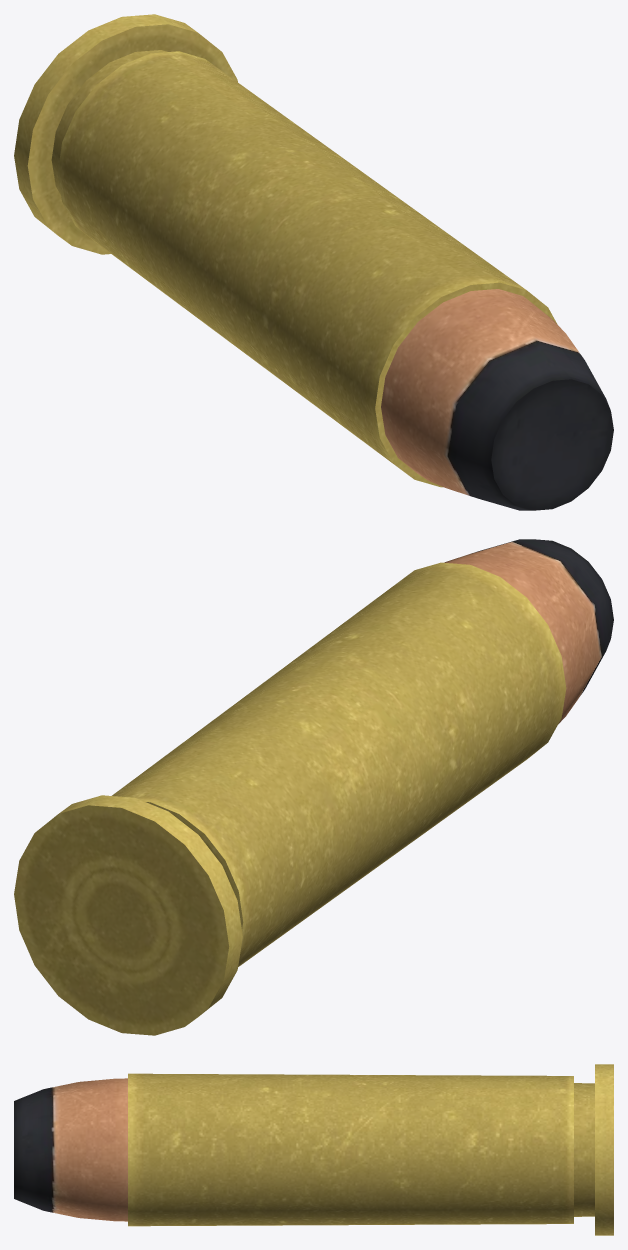
Rendered from round_50.09af6fa334.glb.
3 views of the same model, one above another, from view 1: azimuth 30°, elevation 25°; view 2: azimuth 150°, elevation 25°; view 3: azimuth 270°, elevation 25° (orthographic). The views are drawn at different scales.
Visible parts, largest first — view 1: round_50_0, round_50_1; view 2: round_50_0, round_50_1; view 3: round_50_0, round_50_1.
Part boxes in pixels (left/top/right/bottom): round_50_0: left=14, top=14, right=557, bottom=487; round_50_1: left=381, top=289, right=613, bottom=510; round_50_0: left=14, top=562, right=566, bottom=1035; round_50_1: left=444, top=539, right=613, bottom=724; round_50_0: left=128, top=1064, right=613, bottom=1235; round_50_1: left=14, top=1078, right=127, bottom=1221.
Bounding box in the file's own units: 0.0116 × 0.0116 × 0.0402.
Materials: 1 (1 with a texture image).
